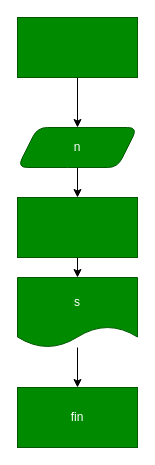
Some shapes in this 155 by 465 pixel diagram are drawn without their labels. Each missing label, with the centre of its shape:
inicio: point 77,47
s=( n(n+1))/2: point 77,227
